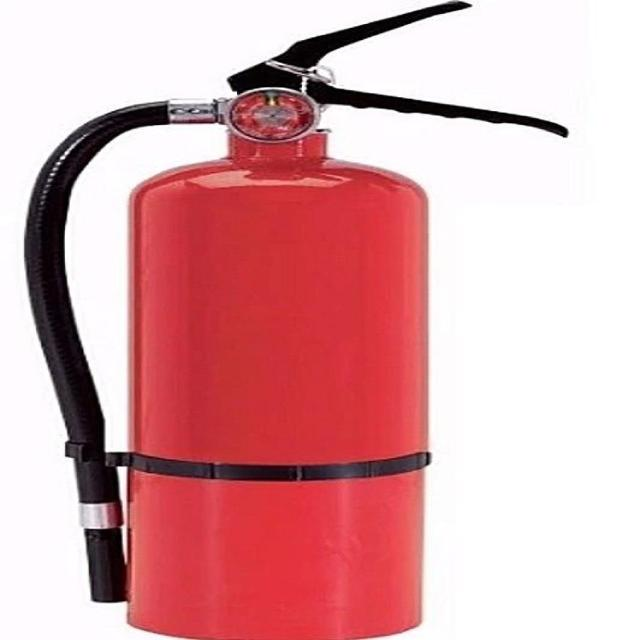fire_extinguisher: (17, 0, 576, 639)
